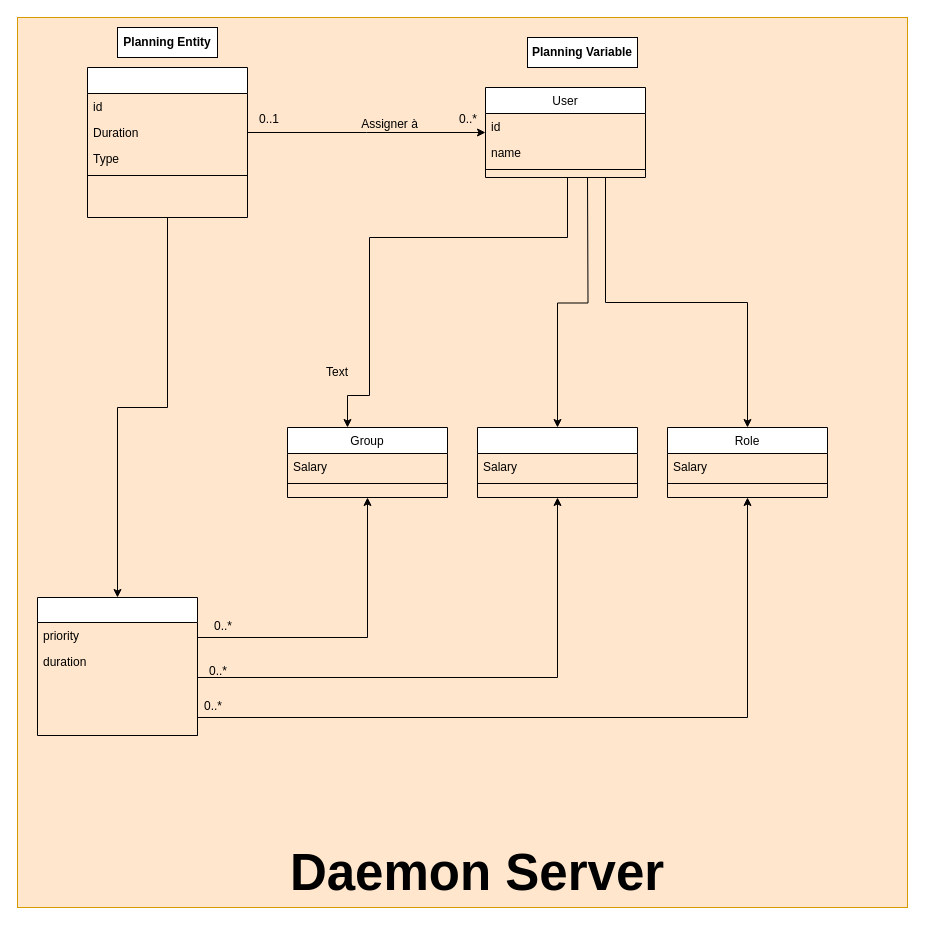
This 925x925 diagram has some shape labels left out. Here are the shapes that lost their labels. From the top down, the box of each, then its label:
(86, 66, 248, 218): Task
(476, 426, 638, 498): skill
(36, 596, 198, 736): Task type
